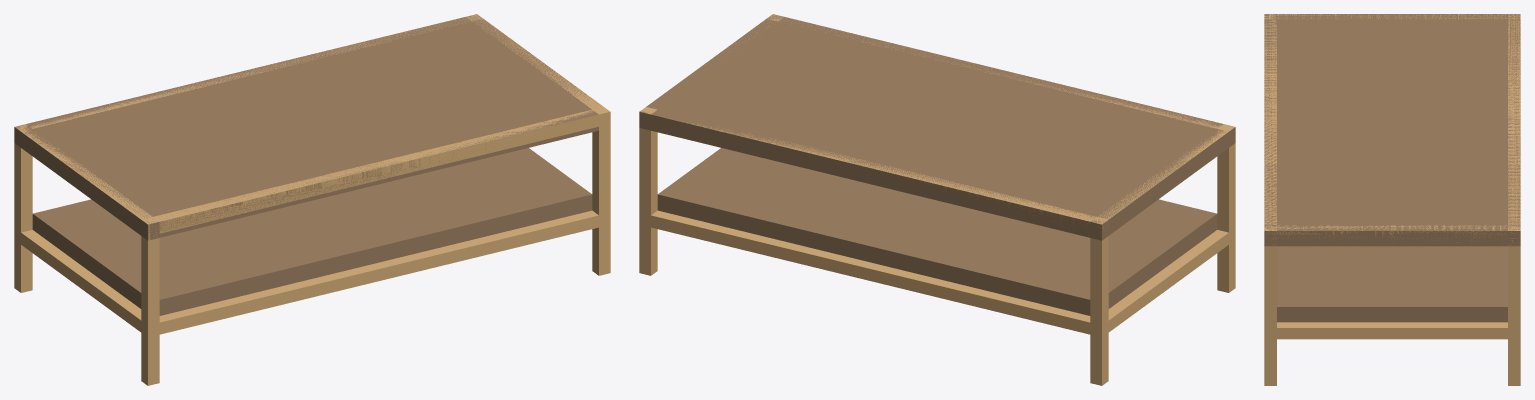
The picture shows the model from 3 angles, left to right: view 1: azimuth 30°, elevation 25°; view 2: azimuth 150°, elevation 25°; view 3: azimuth 270°, elevation 25°; orthographic projection. The views are drawn at different scales.
Parts seen in each view (by area): view 1: Tabletop, Shelf, Copper_Frame; view 2: Tabletop, Shelf, Copper_Frame; view 3: Tabletop, Shelf, Copper_Frame.
Boxes of the visible parts, x1,y1,x2,y2 form: Tabletop: (14, 14, 601, 240); Shelf: (32, 148, 592, 315); Copper_Frame: (14, 14, 610, 385); Tabletop: (639, 14, 1235, 240); Shelf: (657, 148, 1217, 315); Copper_Frame: (639, 14, 1235, 385); Tabletop: (1264, 14, 1520, 246); Shelf: (1277, 246, 1507, 322); Copper_Frame: (1264, 14, 1520, 385).
Bounding box in the file's own units: 1.2 × 0.4 × 0.6.
